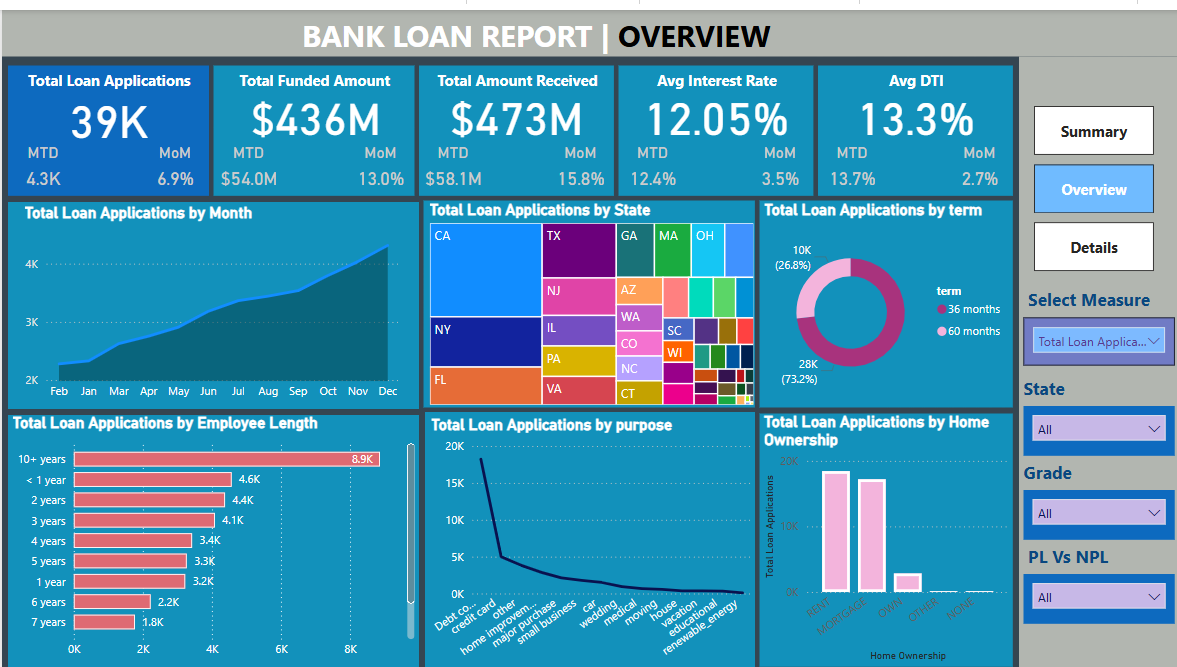

The dashboard page shown, as its layout file describes it:
{"tool":"powerbi","page":{"name":"Overview","canvas":[1280,720],"ordinal":1},"visuals":[{"type":"shape","box":[0,0,1280.1,50.4],"z":0},{"type":"shape","box":[6.3,60.2,218,141.5],"z":0,"group":"g1"},{"type":"shape","box":[229.1,60.2,218,141.5],"z":0,"group":"g2"},{"type":"shape","box":[451.7,60.2,211.5,141.5],"z":0,"group":"g3"},{"type":"shape","box":[669.1,60.2,211.5,141.5],"z":0,"group":"g4"},{"type":"shape","box":[884.7,60.2,211.5,141.5],"z":0,"group":"g5"},{"type":"shape","box":[1102.8,50.4,177.3,670.1],"z":1000},{"type":"card","fields":{"Values":["financial_loan.Total Funded Amount"]},"box":[243.2,77.8,191.9,68.3],"z":1000,"group":"g2"},{"type":"card","fields":{"Values":["financial_loan.Total Amount Recieved"]},"box":[464.6,77.8,185.4,68.3],"z":1000,"group":"g3"},{"type":"card","fields":{"Values":["financial_loan.Avg Interest Rate"]},"box":[682,77.8,185.4,68.3],"z":1000,"group":"g4"},{"type":"card","fields":{"Values":["financial_loan.Avg DTI"]},"box":[897.6,77.8,185.4,68.3],"z":1000,"group":"g5"},{"type":"card","fields":{"Values":["financial_loan.Total Loan Applications"]},"box":[53.7,83,124.5,63.4],"z":1000,"group":"g1"},{"type":"textbox","box":[15.2,60.2,203.1,43.9],"z":2000,"group":"g1"},{"type":"textbox","box":[238,60.2,203.1,43.9],"z":2000,"group":"g2"},{"type":"textbox","box":[460.3,60.2,197.1,43.9],"z":2000,"group":"g3"},{"type":"textbox","box":[677.7,60.2,197.1,43.9],"z":2000,"group":"g4"},{"type":"textbox","box":[893.3,60.2,197.1,43.9],"z":2000,"group":"g5"},{"type":"shape","box":[6.5,208.2,445.7,224.5],"z":2000},{"type":"card","title":"MTD","fields":{"Values":["financial_loan.MTD Loan Applications"]},"box":[6.3,144.8,75.6,56.9],"z":3000,"group":"g1"},{"type":"card","title":"MTD","fields":{"Values":["financial_loan.MTD Funded Amount"]},"box":[229.1,144.8,75.6,56.9],"z":3000,"group":"g2"},{"type":"card","title":"MTD","fields":{"Values":["financial_loan.MTD Total Amount Recieved"]},"box":[451.7,144.8,73.4,56.9],"z":3000,"group":"g3"},{"type":"card","title":"MTD","fields":{"Values":["financial_loan.MTD Avg Interest Rate"]},"box":[669.1,144.8,73.4,56.9],"z":3000,"group":"g4"},{"type":"card","title":"MTD","fields":{"Values":["financial_loan.MTD Avg DTI"]},"box":[884.7,144.8,73.4,56.9],"z":3000,"group":"g5"},{"type":"textbox","box":[1107.7,574.2,152.9,37.4],"z":3000},{"type":"textbox","box":[219.6,0,718.9,60.2],"z":4000},{"type":"card","title":"MoM","fields":{"Values":["financial_loan.MOM Loan Applications"]},"box":[148.6,144.8,75.6,56.9],"z":4000,"group":"g1"},{"type":"card","title":"MoM","fields":{"Values":["financial_loan.MoM Funded Amount"]},"box":[371.4,144.8,75.6,56.9],"z":4000,"group":"g2"},{"type":"card","title":"MoM","fields":{"Values":["financial_loan.MOM Total Amount Recieved"]},"box":[589.8,144.8,73.4,56.9],"z":4000,"group":"g3"},{"type":"card","title":"MoM","fields":{"Values":["financial_loan.MoM Avg Interest Rate"]},"box":[807.2,144.8,73.4,56.9],"z":4000,"group":"g4"},{"type":"card","title":"MoM","fields":{"Values":["financial_loan.MoM Avg DTI"]},"box":[1022.8,144.8,73.4,56.9],"z":4000,"group":"g5"},{"type":"group","id":"g1","title":"Group 1","box":[6.3,60.2,218,141.5],"z":5000},{"type":"group","id":"g2","title":"Group 1","box":[229.1,60.2,218,141.5],"z":6000},{"type":"group","id":"g3","title":"Group 1","box":[451.7,60.2,211.5,141.5],"z":7000},{"type":"group","id":"g4","title":"Group 1","box":[669.1,60.2,211.5,141.5],"z":8000},{"type":"group","id":"g5","title":"Group 1","box":[884.7,60.2,211.5,141.5],"z":9000},{"type":"slicer","fields":{"Values":["financial_loan.Performing Vs Non-Performing Loans"]},"box":[1107.7,611.6,164.3,53.7],"z":10000},{"type":"slicer","fields":{"Values":["financial_loan.grade"]},"box":[1107.7,520.5,164.3,53.7],"z":11000},{"type":"slicer","fields":{"Values":["financial_loan.address_state"]},"box":[1107.7,429.4,164.3,53.7],"z":12000},{"type":"textbox","box":[1102.8,483.1,152.9,37.4],"z":13000},{"type":"textbox","box":[1102.8,392,152.9,37.4],"z":14000},{"type":"areaChart","fields":{"Y":["financial_loan.Total Loan Applications"],"Category":["Date Table.Month"]},"box":[19.5,209.8,416.4,221.2],"z":15000},{"type":"slicer","fields":{"Values":["Select Measure .Select Measure "]},"box":[1107.7,333.4,164.3,52],"z":16000},{"type":"textbox","box":[1107.7,296,152.9,37.4],"z":17000},{"type":"shape","box":[457.1,206.6,359.5,224.5],"z":18000},{"type":"treemap","fields":{"Values":["financial_loan.Total Loan Applications"],"Group":["financial_loan.address_state"]},"box":[458.7,206.6,361.1,226.1],"z":19000},{"type":"shape","box":[821.4,206.6,274.9,224.5],"z":20000},{"type":"donutChart","fields":{"Y":["financial_loan.Total Loan Applications"],"Category":["financial_loan.term"]},"box":[821.4,206.6,274.9,222.8],"z":21000},{"type":"shape","box":[6.5,439.2,445.7,273.3],"z":22000},{"type":"clusteredBarChart","fields":{"Y":["financial_loan.Total Loan Applications"],"Category":["financial_loan.emp_length"]},"box":[6.5,437.5,445.7,273.3],"z":23000},{"type":"shape","box":[458.7,435.9,357.8,276.5],"z":24000},{"type":"shape","box":[821.4,437.5,274.9,274.9],"z":25000},{"type":"lineChart","fields":{"Y":["financial_loan.Total Loan Applications"],"Category":["financial_loan.purpose"]},"box":[460.3,439.2,356.2,273.3],"z":26000},{"type":"clusteredColumnChart","fields":{"Y":["financial_loan.Total Loan Applications"],"Category":["financial_loan.home_ownership"]},"box":[821.4,435.9,274.9,274.9],"z":27000},{"type":"pageNavigator","box":[1119.1,104.1,130.1,180.5],"z":28000}]}

Visuals, with their boxes in screenshot pixels (x1, y1, x2, y2), scaled from the page's 1280x720 canvas onto the 1177x667 screenshot:
shape: pyautogui.locateOnScreen(0, 0, 1176, 47)
shape: pyautogui.locateOnScreen(6, 56, 206, 187)
shape: pyautogui.locateOnScreen(211, 56, 411, 187)
shape: pyautogui.locateOnScreen(415, 56, 610, 187)
shape: pyautogui.locateOnScreen(615, 56, 810, 187)
shape: pyautogui.locateOnScreen(814, 56, 1008, 187)
shape: pyautogui.locateOnScreen(1014, 47, 1176, 666)
card - financial_loan.Total Funded Amount: pyautogui.locateOnScreen(224, 72, 400, 135)
card - financial_loan.Total Amount Recieved: pyautogui.locateOnScreen(427, 72, 598, 135)
card - financial_loan.Avg Interest Rate: pyautogui.locateOnScreen(627, 72, 798, 135)
card - financial_loan.Avg DTI: pyautogui.locateOnScreen(825, 72, 996, 135)
card - financial_loan.Total Loan Applications: pyautogui.locateOnScreen(49, 77, 164, 136)
textbox: pyautogui.locateOnScreen(14, 56, 201, 96)
textbox: pyautogui.locateOnScreen(219, 56, 406, 96)
textbox: pyautogui.locateOnScreen(423, 56, 604, 96)
textbox: pyautogui.locateOnScreen(623, 56, 804, 96)
textbox: pyautogui.locateOnScreen(821, 56, 1003, 96)
shape: pyautogui.locateOnScreen(6, 193, 416, 401)
"MTD" card: pyautogui.locateOnScreen(6, 134, 75, 187)
"MTD" card: pyautogui.locateOnScreen(211, 134, 280, 187)
"MTD" card: pyautogui.locateOnScreen(415, 134, 483, 187)
"MTD" card: pyautogui.locateOnScreen(615, 134, 683, 187)
"MTD" card: pyautogui.locateOnScreen(814, 134, 881, 187)
textbox: pyautogui.locateOnScreen(1019, 532, 1159, 567)
textbox: pyautogui.locateOnScreen(202, 0, 863, 56)
"MoM" card: pyautogui.locateOnScreen(137, 134, 206, 187)
"MoM" card: pyautogui.locateOnScreen(342, 134, 411, 187)
"MoM" card: pyautogui.locateOnScreen(542, 134, 610, 187)
"MoM" card: pyautogui.locateOnScreen(742, 134, 810, 187)
"MoM" card: pyautogui.locateOnScreen(940, 134, 1008, 187)
"Group 1" group: pyautogui.locateOnScreen(6, 56, 206, 187)
"Group 1" group: pyautogui.locateOnScreen(211, 56, 411, 187)
"Group 1" group: pyautogui.locateOnScreen(415, 56, 610, 187)
"Group 1" group: pyautogui.locateOnScreen(615, 56, 810, 187)
"Group 1" group: pyautogui.locateOnScreen(814, 56, 1008, 187)
slicer - financial_loan.Performing Vs Non-Performing Loans: pyautogui.locateOnScreen(1019, 567, 1170, 616)
slicer - financial_loan.grade: pyautogui.locateOnScreen(1019, 482, 1170, 532)
slicer - financial_loan.address_state: pyautogui.locateOnScreen(1019, 398, 1170, 448)
textbox: pyautogui.locateOnScreen(1014, 448, 1155, 482)
textbox: pyautogui.locateOnScreen(1014, 363, 1155, 398)
areaChart - financial_loan.Total Loan Applications x Date Table.Month: pyautogui.locateOnScreen(18, 194, 401, 399)
slicer - Select Measure .Select Measure : pyautogui.locateOnScreen(1019, 309, 1170, 357)
textbox: pyautogui.locateOnScreen(1019, 274, 1159, 309)
shape: pyautogui.locateOnScreen(420, 191, 751, 399)
treemap - financial_loan.Total Loan Applications x financial_loan.address_state: pyautogui.locateOnScreen(422, 191, 754, 401)
shape: pyautogui.locateOnScreen(755, 191, 1008, 399)
donutChart - financial_loan.Total Loan Applications x financial_loan.term: pyautogui.locateOnScreen(755, 191, 1008, 398)
shape: pyautogui.locateOnScreen(6, 407, 416, 660)
clusteredBarChart - financial_loan.Total Loan Applications x financial_loan.emp_length: pyautogui.locateOnScreen(6, 405, 416, 658)
shape: pyautogui.locateOnScreen(422, 404, 751, 660)
shape: pyautogui.locateOnScreen(755, 405, 1008, 660)
lineChart - financial_loan.Total Loan Applications x financial_loan.purpose: pyautogui.locateOnScreen(423, 407, 751, 660)
clusteredColumnChart - financial_loan.Total Loan Applications x financial_loan.home_ownership: pyautogui.locateOnScreen(755, 404, 1008, 658)
pageNavigator: pyautogui.locateOnScreen(1029, 96, 1149, 264)
